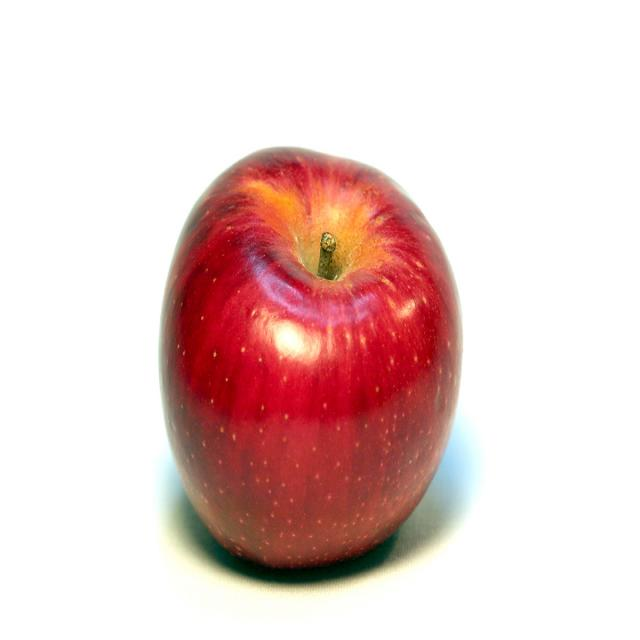Apple: (155, 144, 463, 566)
